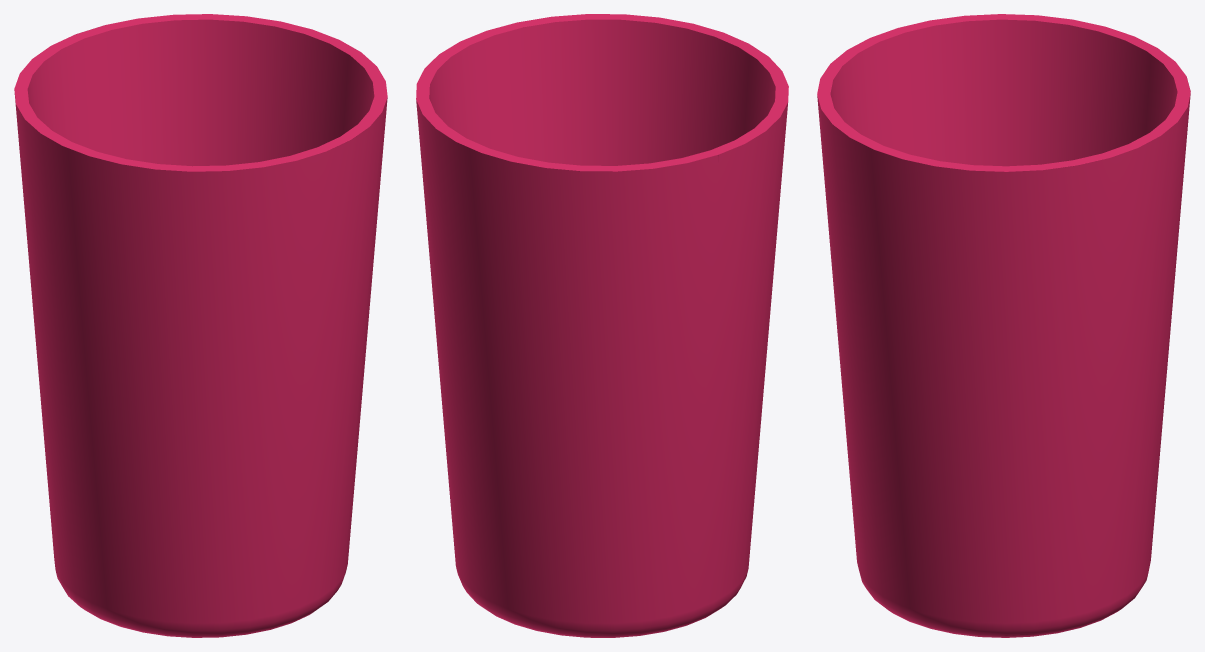
The model's file is KitchenCup.015.fbx.
The picture shows the model from 3 angles, left to right: view 1: azimuth 30°, elevation 25°; view 2: azimuth 150°, elevation 25°; view 3: azimuth 270°, elevation 25°; orthographic projection.
Parts seen in each view (by area): view 1: KitchenCup.015_Baked; view 2: KitchenCup.015_Baked; view 3: KitchenCup.015_Baked.
Boxes of the visible parts, x1,y1,x2,y2 form: KitchenCup.015_Baked: (14, 14, 387, 637); KitchenCup.015_Baked: (416, 14, 788, 637); KitchenCup.015_Baked: (817, 14, 1190, 637).
Size of the model in its own units: 8.97 by 12.97 by 8.97.
1 material, 1 textured.
